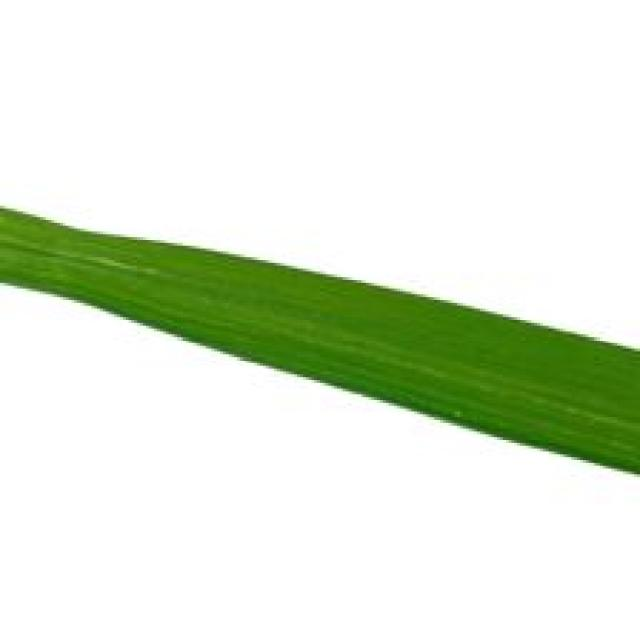Rice___Healthy_Rice_Plant: (0, 204, 637, 478)
